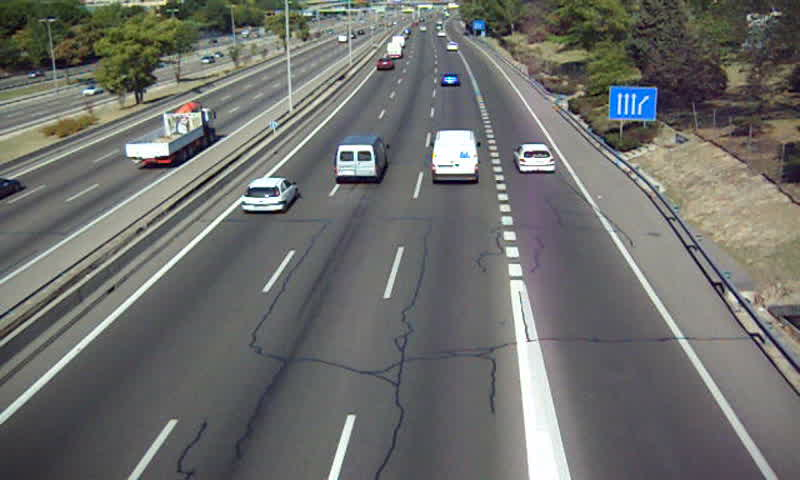car: (241, 177, 299, 214), (514, 142, 556, 172), (440, 71, 461, 87), (375, 58, 394, 71)
van: (336, 135, 388, 185), (431, 130, 480, 183)
